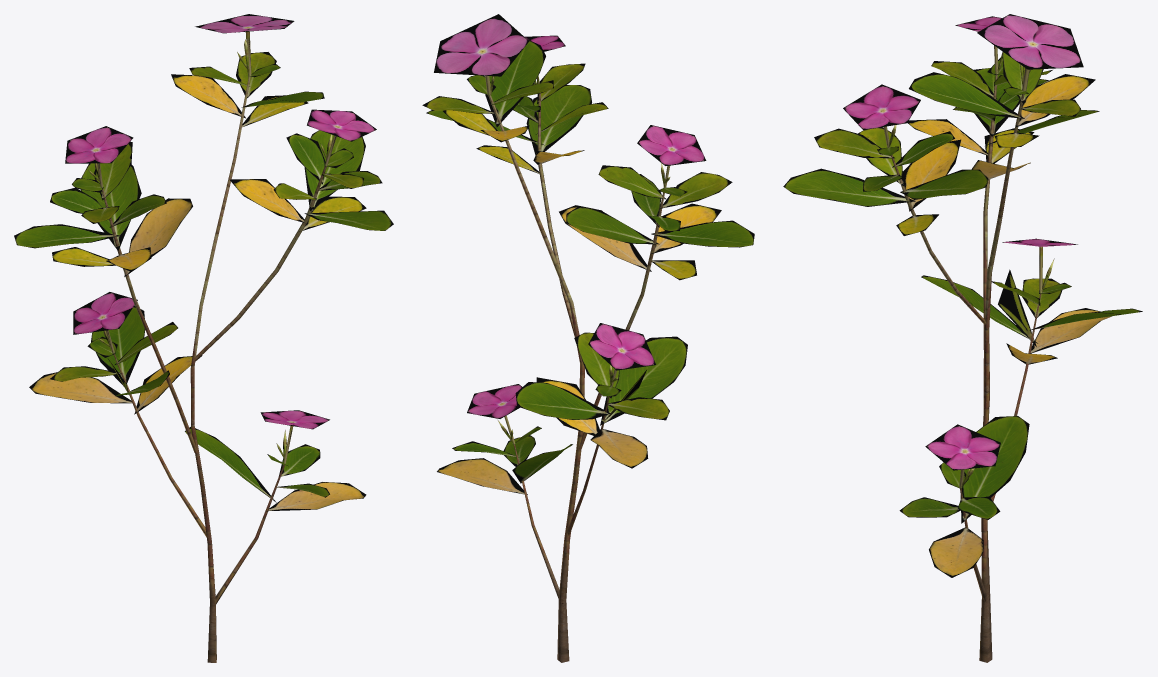
The model's file is periwinkle_b.glb.
The picture shows the model from 3 angles, left to right: view 1: azimuth 30°, elevation 25°; view 2: azimuth 150°, elevation 25°; view 3: azimuth 270°, elevation 25°; orthographic projection. The views are drawn at different scales.
Visible parts, largest first — view 1: periwinkle_b; view 2: periwinkle_b; view 3: periwinkle_b.
Boxes of the visible parts, x1,y1,x2,y2 form: periwinkle_b: (14,14,393,662); periwinkle_b: (422,14,754,662); periwinkle_b: (783,14,1142,662).
Bounding box in the file's own units: 0.168 × 0.3005 × 0.1481.
Materials: 1 (1 with a texture image).
